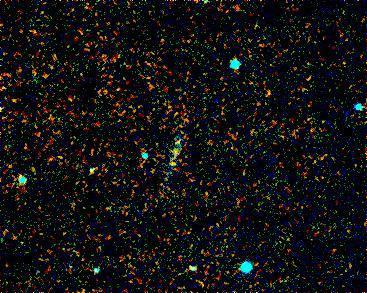star: (152, 146, 182, 176)
